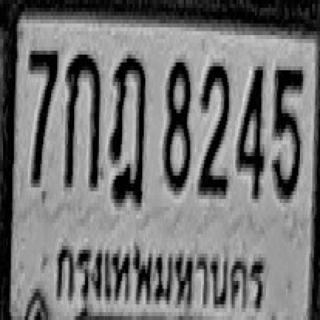A01: (64, 51, 100, 187)
A14: (109, 53, 146, 205)
N02: (198, 59, 229, 195)
N04: (236, 62, 264, 199)
N05: (272, 66, 303, 199)
N07: (29, 49, 58, 185)
N08: (163, 59, 191, 191)
P04: (53, 230, 270, 320)
